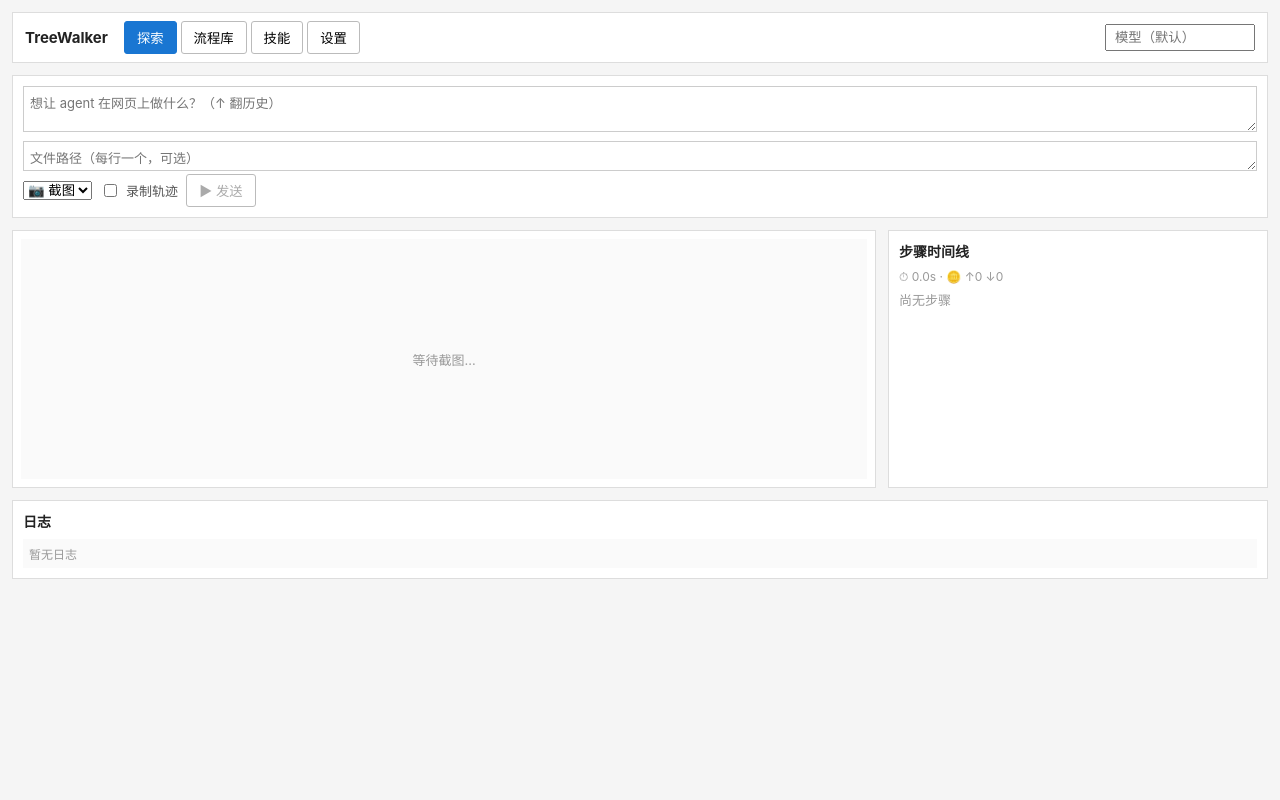
it: AppShell live 状态提升（T2 H M1） › Ctrl+K 呼出命令面板 → 搜流程名 Enter → 打开流程（T2 I4 M8）
Note: Ctrl+K 呼出
Press k
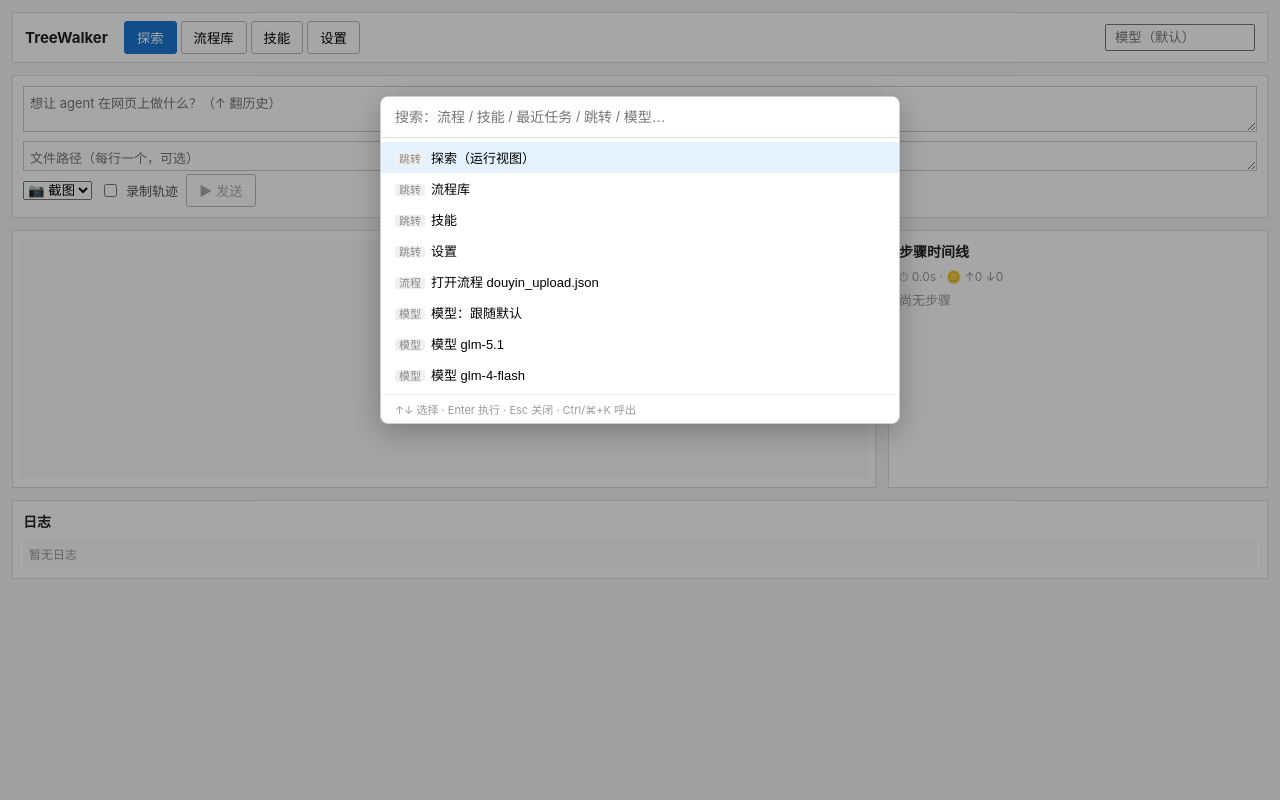
Check: the element with class "cmdk" is shown, box [380, 96, 900, 424]
Check: the text "打开流程 douyin_upload.json" is shown, box [381, 266, 899, 297]
Note: 等数据源加载 + 输入过滤 + Enter 执行「打开流程」
Type "douyin_upload" into the field with placeholder "搜索：流程 / 技能 / 最近任务 / 跳转 / 模型…" at (640, 118), box [381, 97, 899, 138]
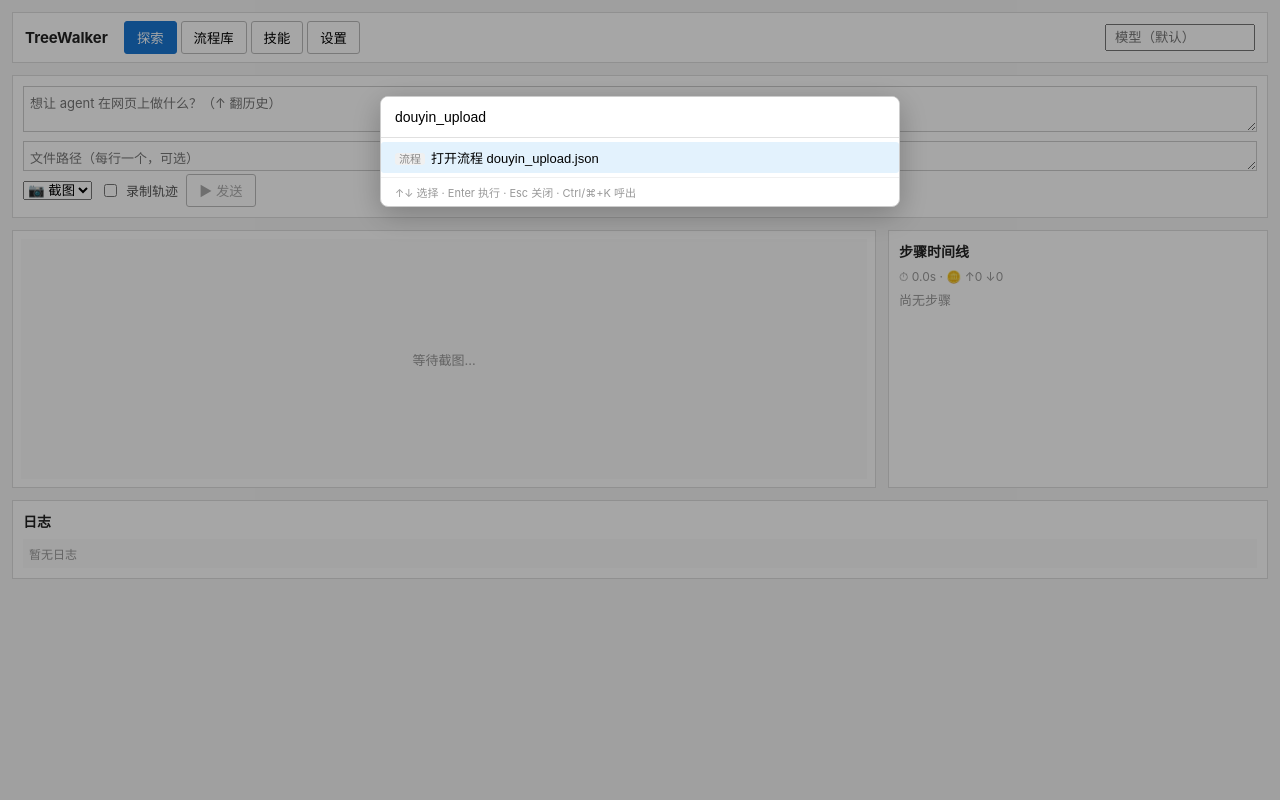
Press Enter in the field, box [381, 97, 899, 138]
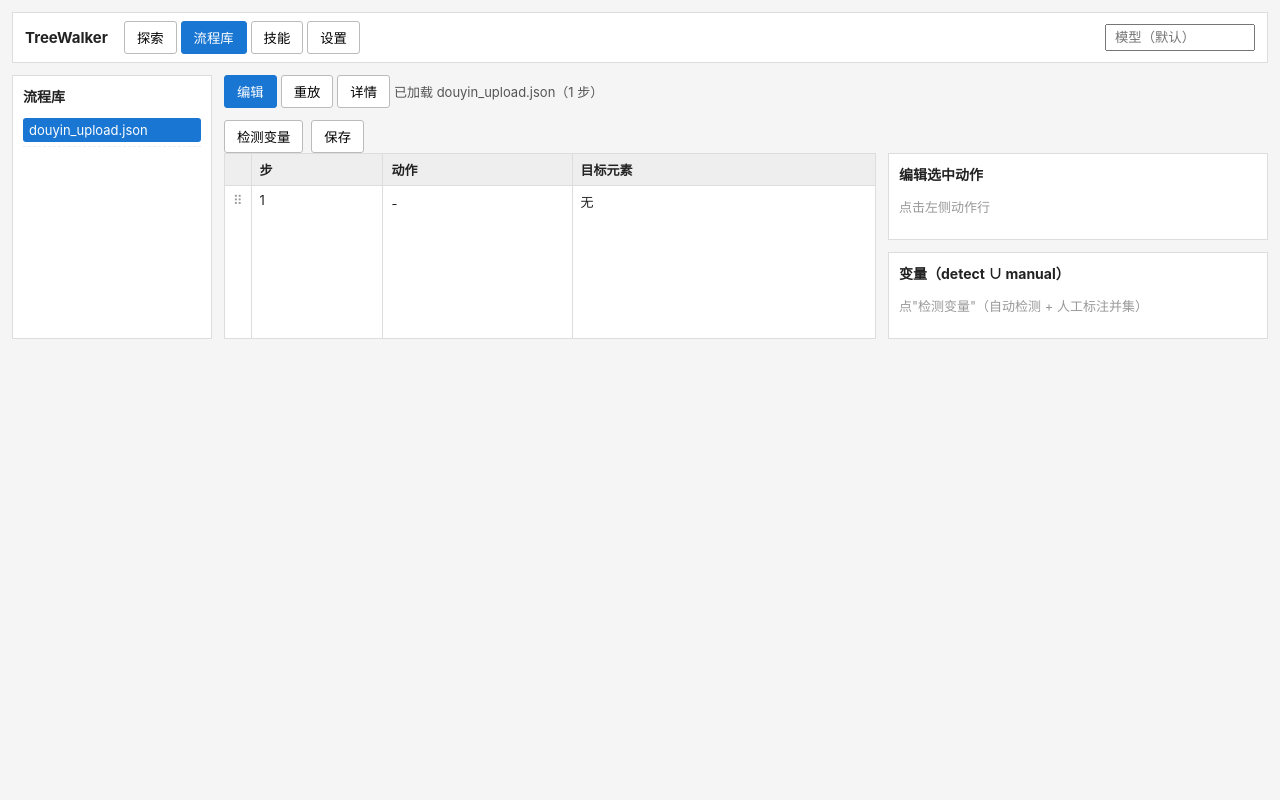
Check: the element with class "cmdk" is gone
Check: the text "已加载 douyin_upload.json" is shown, box [394, 84, 603, 100]
